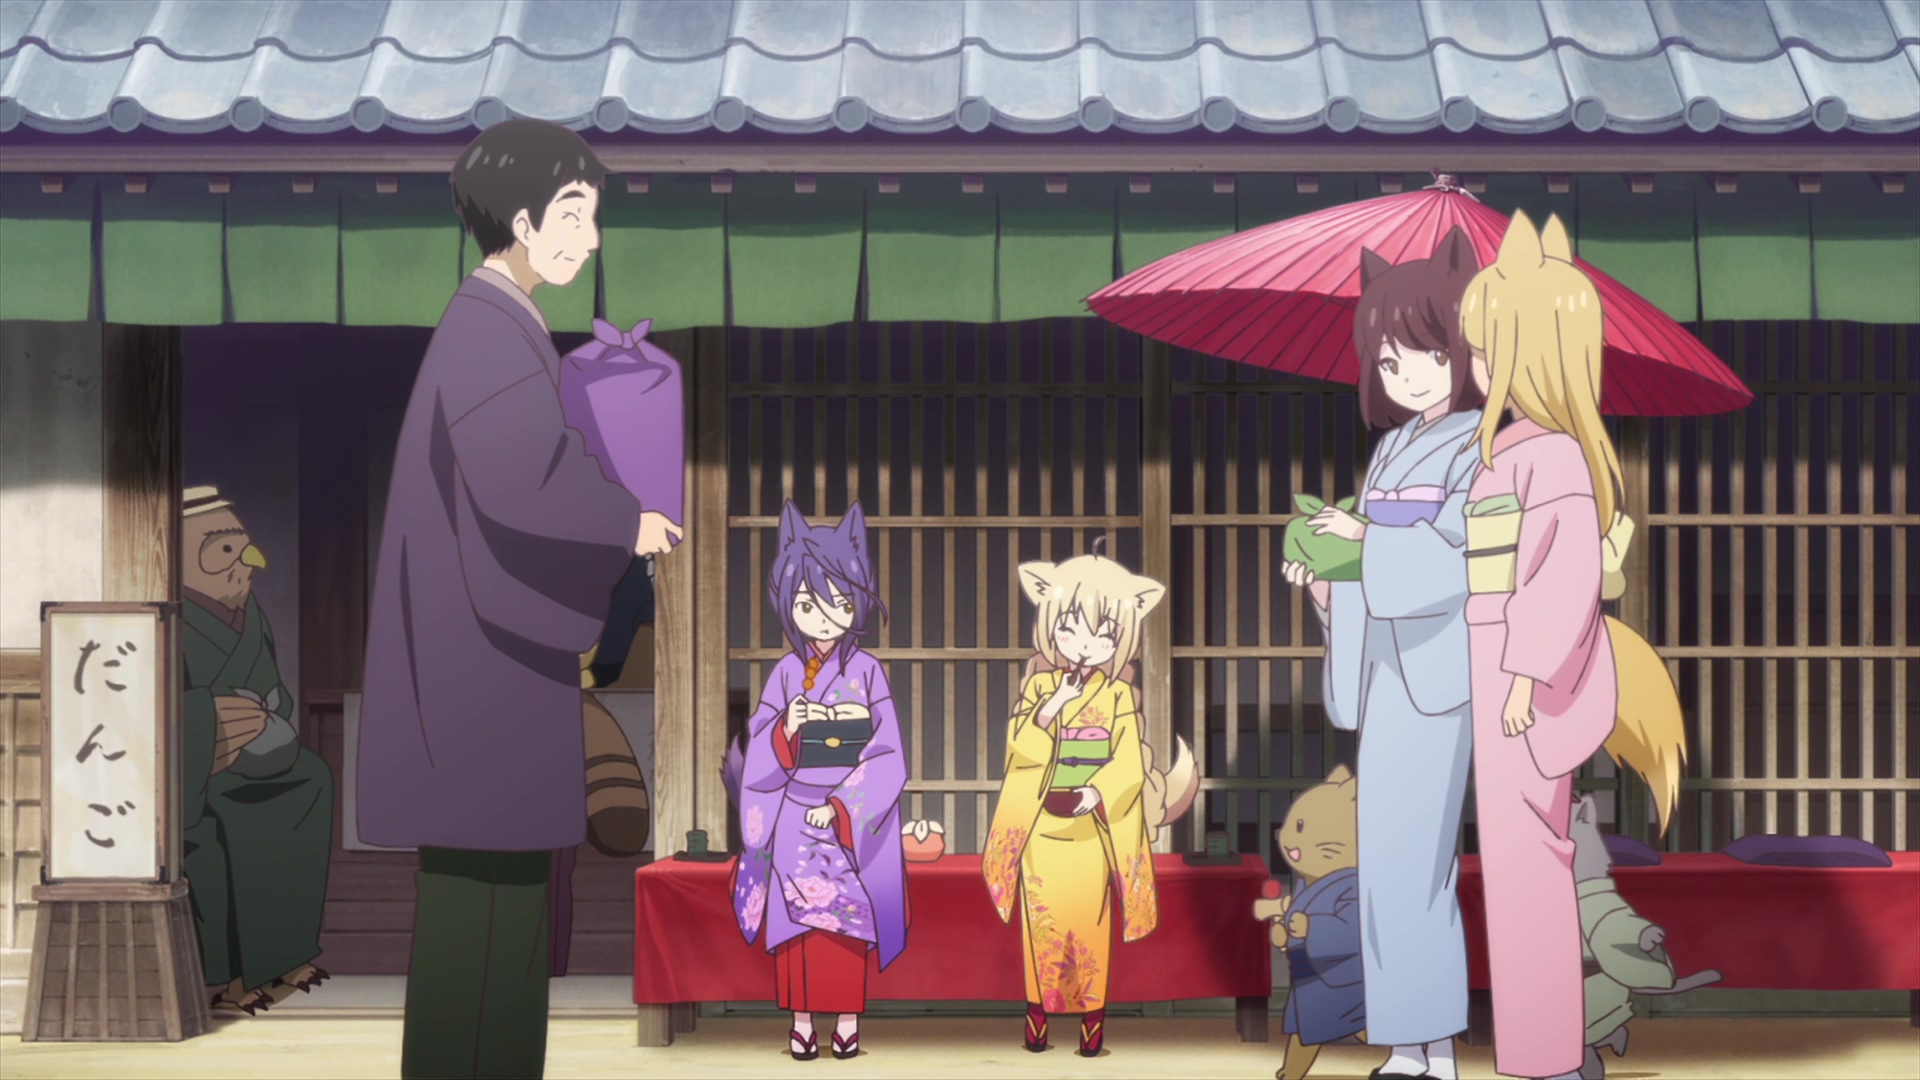其他: (353, 123, 684, 1080), (1458, 204, 1687, 1080), (1280, 228, 1484, 1080), (181, 483, 336, 1015), (1571, 794, 1720, 1080), (1255, 765, 1367, 1080)
柚: (981, 531, 1200, 1054)
皋: (721, 501, 910, 1065)
